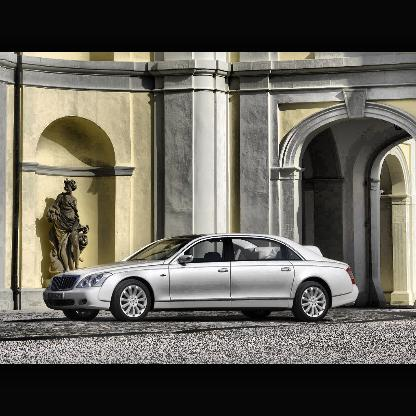Maybach Landaulet Convertible 2012: (45, 234, 360, 323)
